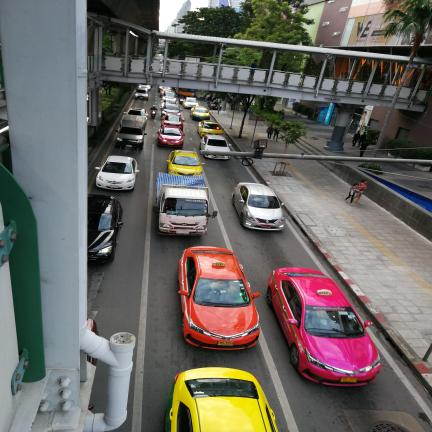car: (232, 183, 285, 230), (88, 194, 123, 262), (96, 156, 139, 190), (200, 135, 231, 159), (157, 126, 185, 147), (161, 114, 183, 130), (161, 103, 181, 118), (124, 107, 148, 117), (161, 96, 178, 108), (183, 97, 199, 108)
human: (344, 182, 360, 206), (355, 179, 367, 203), (358, 132, 366, 147), (266, 124, 274, 139), (352, 131, 360, 146), (273, 125, 279, 140), (250, 59, 258, 68), (280, 109, 285, 121), (281, 63, 287, 72)
motorbike: (150, 109, 157, 119)
taxi: (268, 268, 383, 386), (180, 246, 261, 349), (164, 367, 277, 432), (166, 150, 205, 175), (197, 120, 223, 137), (190, 106, 210, 120)
truck: (153, 173, 217, 235), (116, 114, 146, 149)
